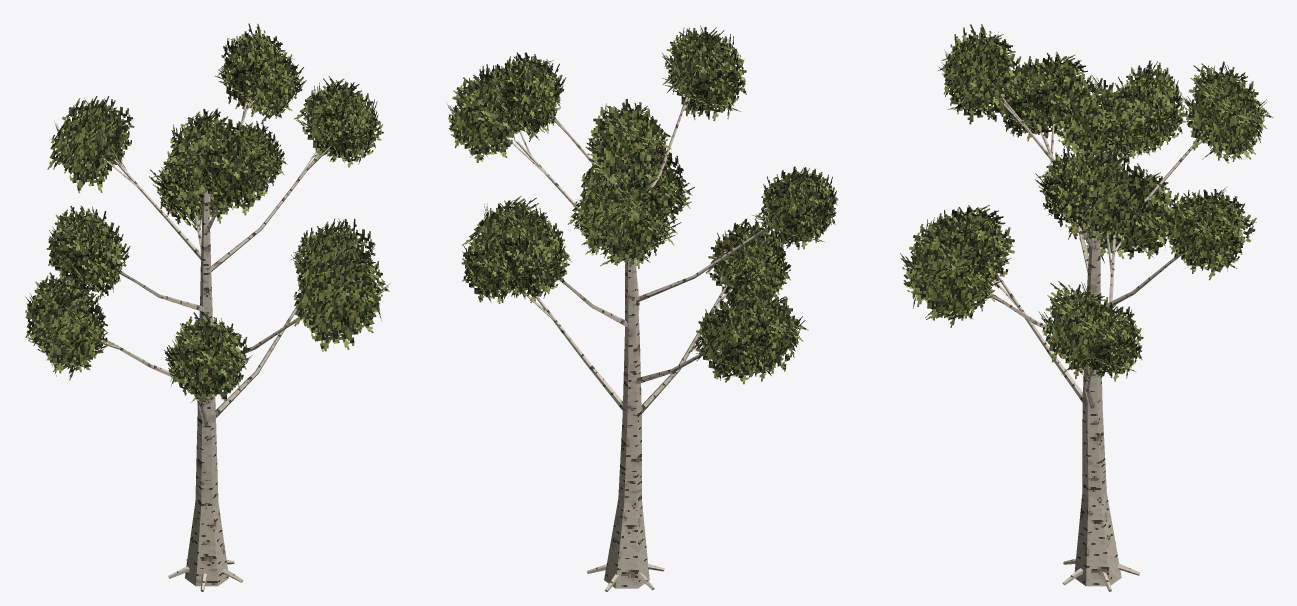
The model's file is TREE_Birch_Green_C_LOD1.glb.
3 renders of one model, left to right at view 1: azimuth 30°, elevation 25°; view 2: azimuth 150°, elevation 25°; view 3: azimuth 270°, elevation 25°, orthographic. The views are drawn at different scales.
Visible parts, largest first — view 1: TREE_Birch_Green_C_LOD1__Card, TREE_Birch_Green_C_LOD1__Bark, TREE_Birch_Green_C_LOD1__Foliage; view 2: TREE_Birch_Green_C_LOD1__Card, TREE_Birch_Green_C_LOD1__Bark, TREE_Birch_Green_C_LOD1__Foliage; view 3: TREE_Birch_Green_C_LOD1__Card, TREE_Birch_Green_C_LOD1__Bark, TREE_Birch_Green_C_LOD1__Foliage.
Boxes of the visible parts, x1=… form: TREE_Birch_Green_C_LOD1__Card: x1=25, y1=23, x2=390, y2=405; TREE_Birch_Green_C_LOD1__Bark: x1=100, y1=98, x2=331, y2=591; TREE_Birch_Green_C_LOD1__Foliage: x1=49, y1=54, x2=364, y2=377; TREE_Birch_Green_C_LOD1__Card: x1=446, y1=25, x2=838, y2=384; TREE_Birch_Green_C_LOD1__Bark: x1=506, y1=85, x2=782, y2=591; TREE_Birch_Green_C_LOD1__Foliage: x1=467, y1=57, x2=811, y2=355; TREE_Birch_Green_C_LOD1__Card: x1=900, y1=24, x2=1273, y2=381; TREE_Birch_Green_C_LOD1__Bark: x1=989, y1=96, x2=1204, y2=591; TREE_Birch_Green_C_LOD1__Foliage: x1=939, y1=63, x2=1243, y2=354.
Size of the model in its own units: 7.21 by 9.78 by 6.42.
Materials: 3 (3 with a texture image).
